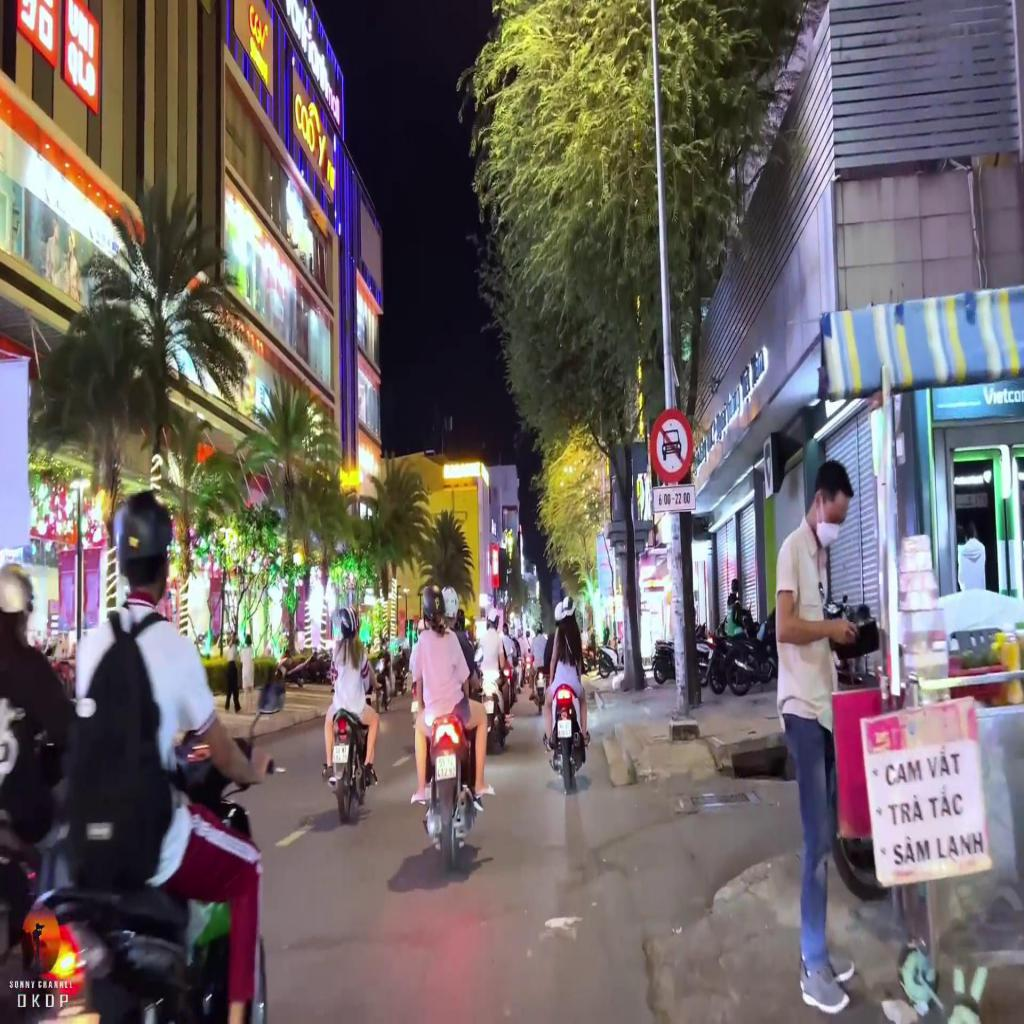cam_o_to: (651, 408, 693, 484)
khac: (652, 484, 696, 513)
